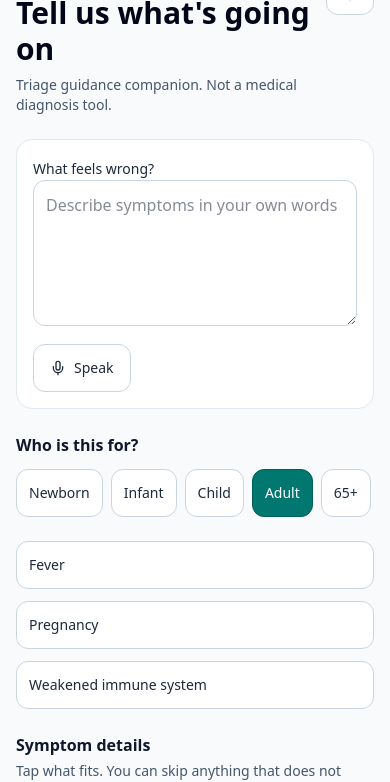
Test: IntakeCanvas consumer flow › shows a safe retry state for malformed model output
This screenshot has width=390, height=782.
Step 1. Type "sore throat" into the text box labelled "What feels wrong?" → (195, 253), box [33, 180, 357, 326]
(page scrolled)
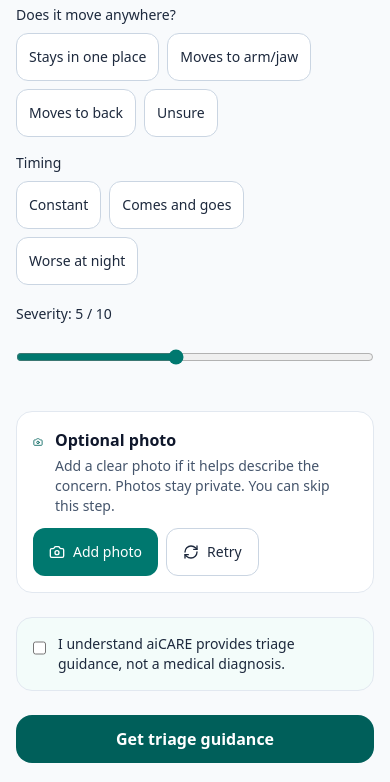
Step 2. Click the checkbox → (40, 648), box [33, 638, 46, 658]
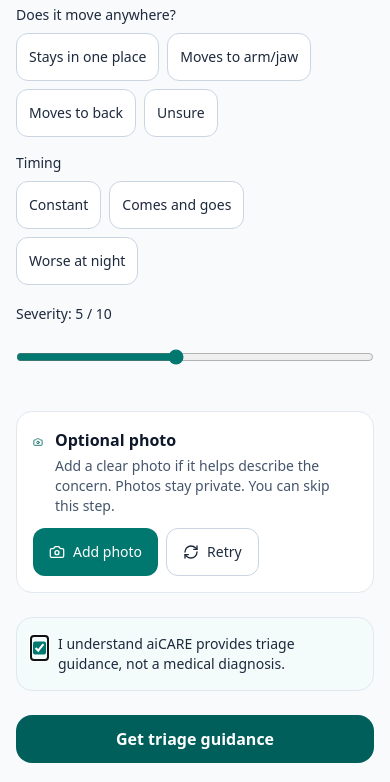
Step 3. Click the button "Get triage guidance" → (195, 739), box [16, 715, 374, 763]
(page scrolled)
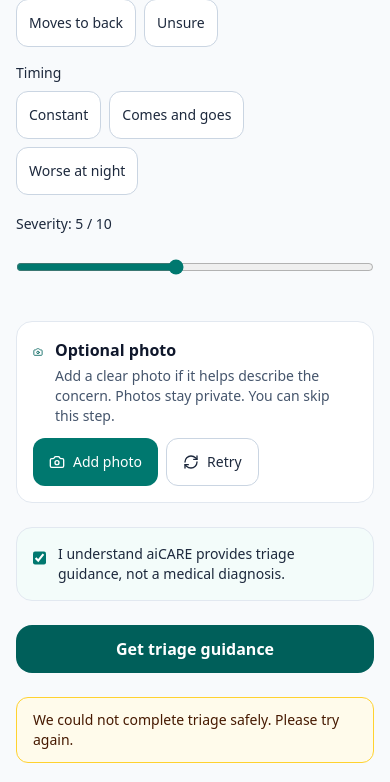
Expected: the message shows "could not complete triage safely", [33, 710, 339, 749]
